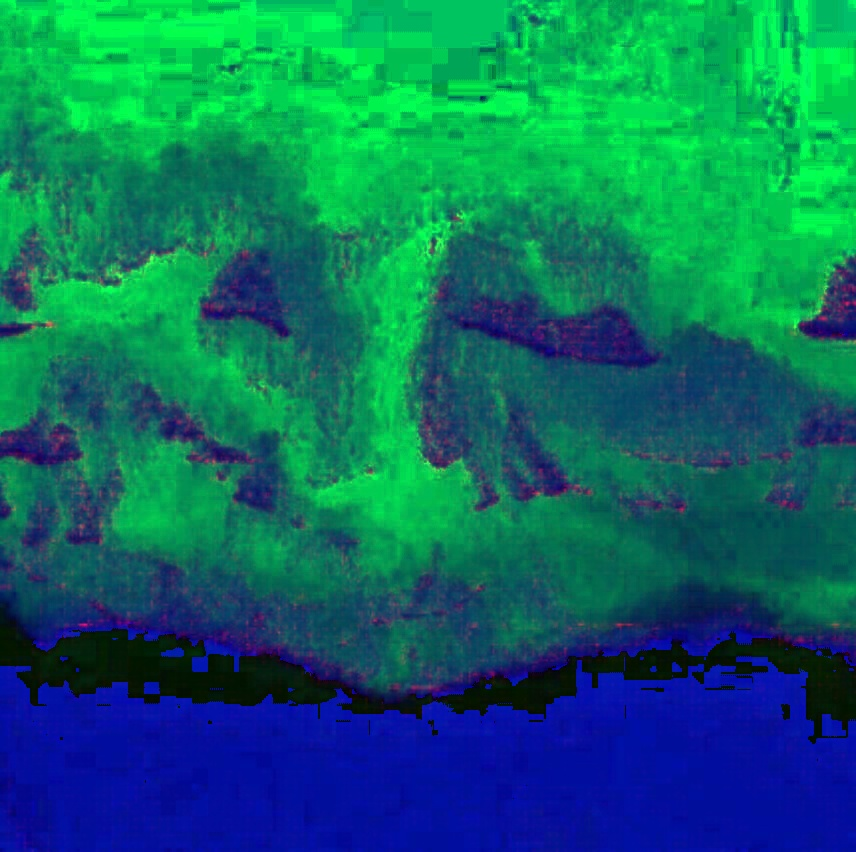rip_current: (311, 139, 515, 617)
